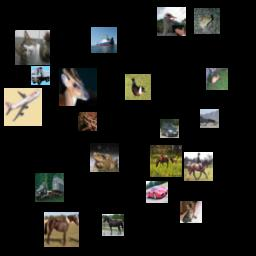airplane: (4, 88, 42, 126), (200, 109, 219, 128)
automobile: (146, 181, 168, 203), (160, 119, 179, 138)
bird: (157, 7, 186, 36), (125, 74, 151, 100)
cat: (15, 30, 50, 65), (180, 201, 202, 223)
deer: (59, 68, 97, 106), (206, 68, 228, 90)
frog: (90, 143, 119, 172), (194, 8, 220, 34), (78, 112, 97, 131)
ship: (91, 27, 117, 53)
truck: (35, 173, 64, 202), (31, 66, 50, 85)
